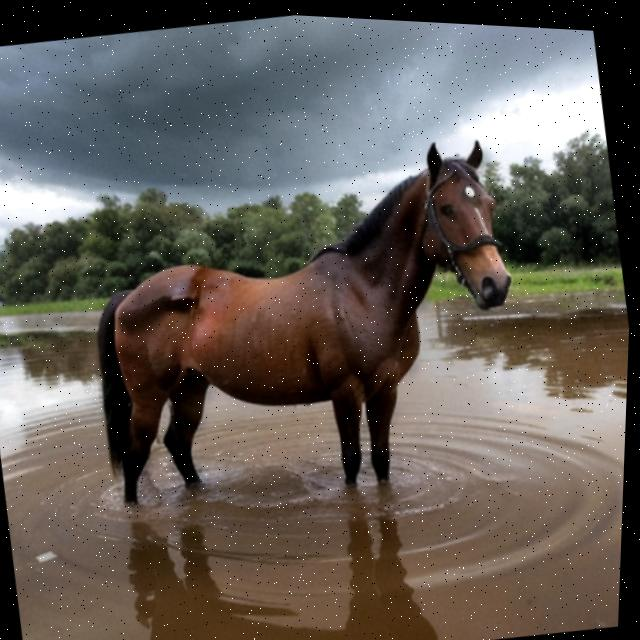horse: (48, 106, 559, 568)
